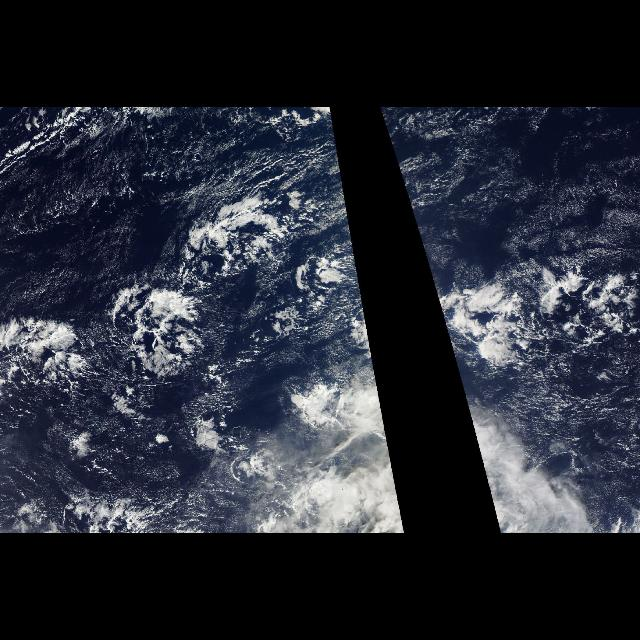Sugar: (432, 155, 636, 283), (24, 394, 248, 510), (33, 142, 157, 308), (521, 340, 625, 492)
